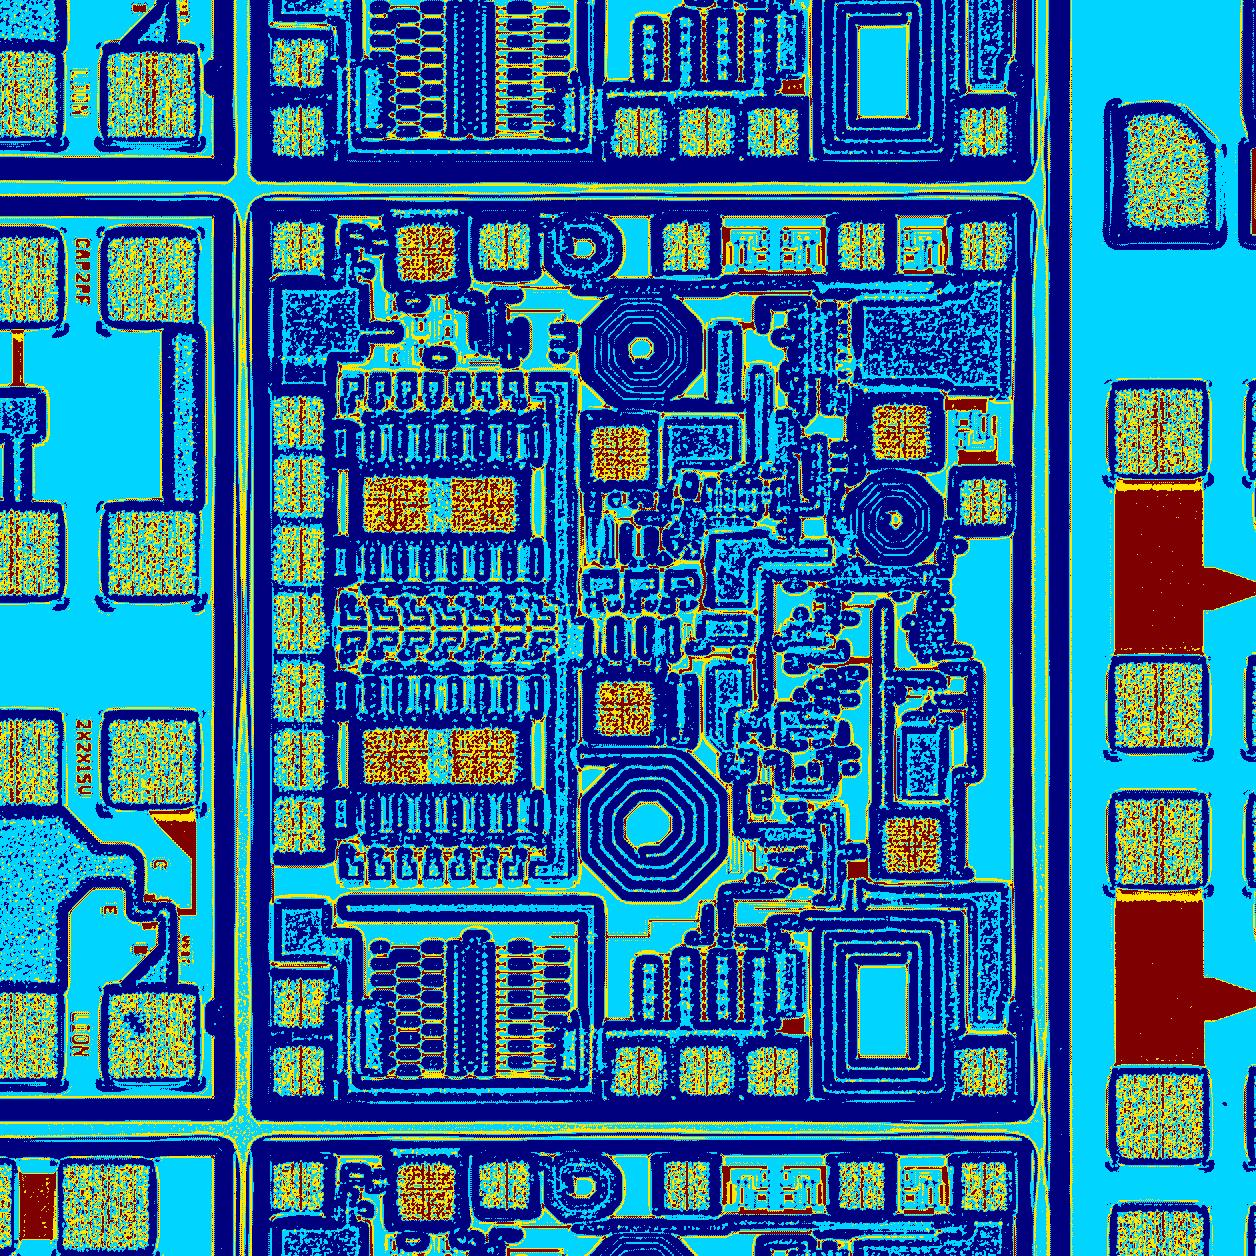Die: (250, 192, 1033, 1120)
Pad 1: (361, 725, 430, 784), (451, 725, 519, 783), (363, 475, 430, 533), (449, 477, 516, 533), (395, 223, 457, 281), (882, 815, 941, 874), (591, 426, 649, 482), (595, 680, 653, 735), (873, 405, 930, 459)
Pad 2: (273, 661, 326, 722), (274, 454, 326, 516), (274, 591, 326, 653), (274, 729, 324, 791), (274, 524, 324, 585), (274, 797, 326, 853), (273, 395, 324, 449), (273, 221, 324, 275), (273, 1046, 326, 1097), (680, 1046, 734, 1096), (274, 978, 327, 1028), (746, 1047, 799, 1096), (614, 1047, 666, 1096), (478, 222, 530, 271), (958, 1047, 1009, 1095), (663, 222, 711, 271), (960, 222, 1009, 270), (837, 222, 886, 270), (960, 477, 1009, 524)
